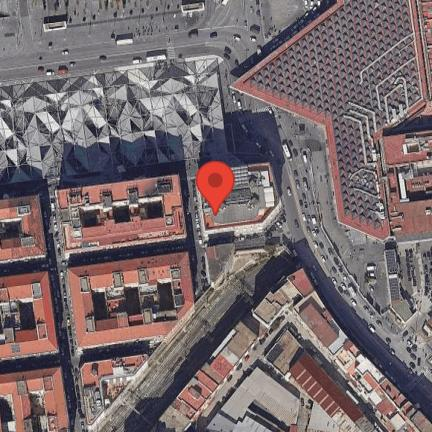area_open: (243, 93, 432, 352), (0, 0, 335, 60), (234, 215, 293, 249)
built: (228, 1, 432, 243), (150, 268, 432, 432), (0, 59, 230, 181), (63, 253, 195, 355), (267, 330, 386, 432), (54, 174, 187, 256), (198, 162, 283, 240), (204, 367, 300, 432), (79, 353, 148, 431), (1, 272, 58, 361), (0, 368, 68, 432), (206, 244, 287, 291), (0, 196, 47, 264)
